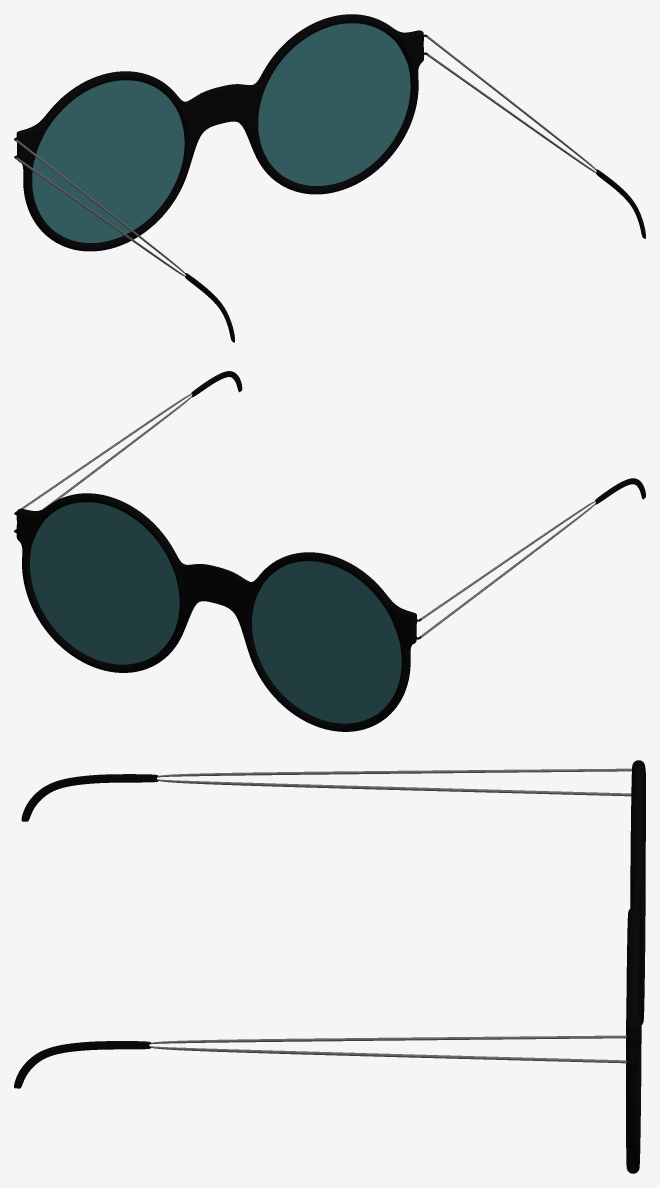
3 views of the same model, one above another, from view 1: azimuth 30°, elevation 25°; view 2: azimuth 150°, elevation 25°; view 3: azimuth 270°, elevation 25° (orthographic). The views are drawn at different scales.
Parts seen in each view (by area): view 1: Cylinder.008; view 2: Cylinder.008; view 3: Cylinder.008.
Boxes of the visible parts, <box> form: Cylinder.008: <box>14,14,645,342</box>; Cylinder.008: <box>14,371,645,731</box>; Cylinder.008: <box>14,760,645,1173</box>.
Bounding box in the file's own units: 15.23 × 6.26 × 14.54.
